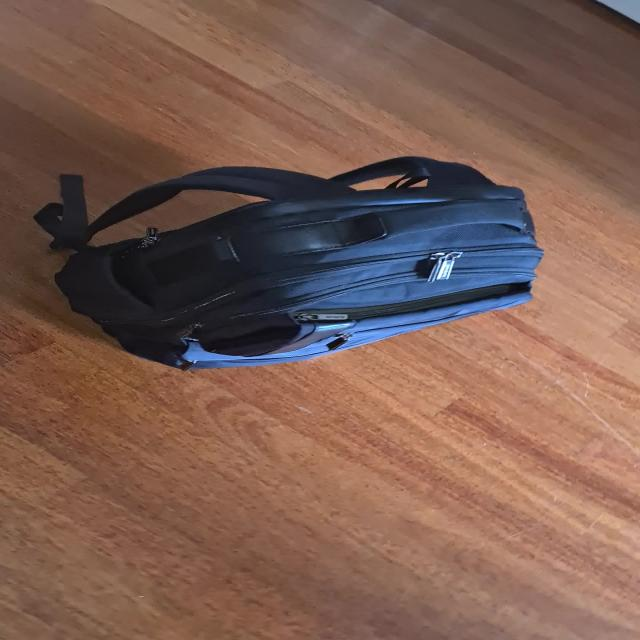backpack: (37, 149, 565, 373)
